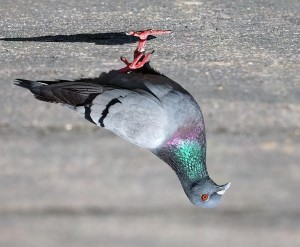pigeon: (10, 27, 232, 210)
